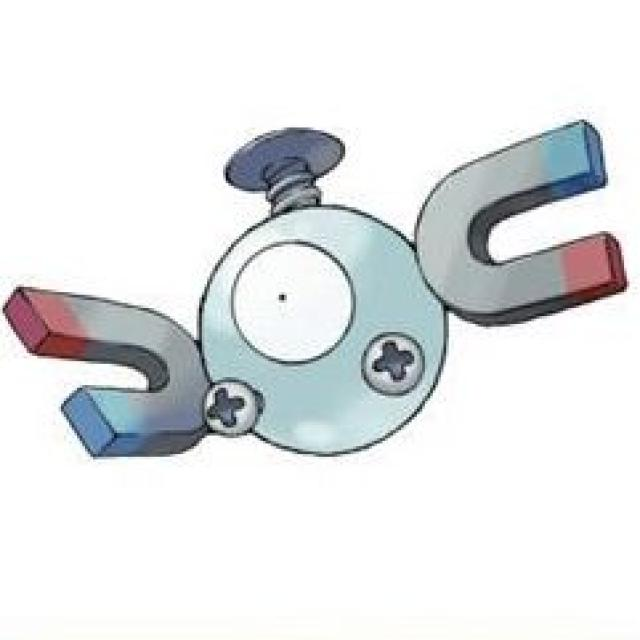Magnemite: (2, 97, 640, 484)
